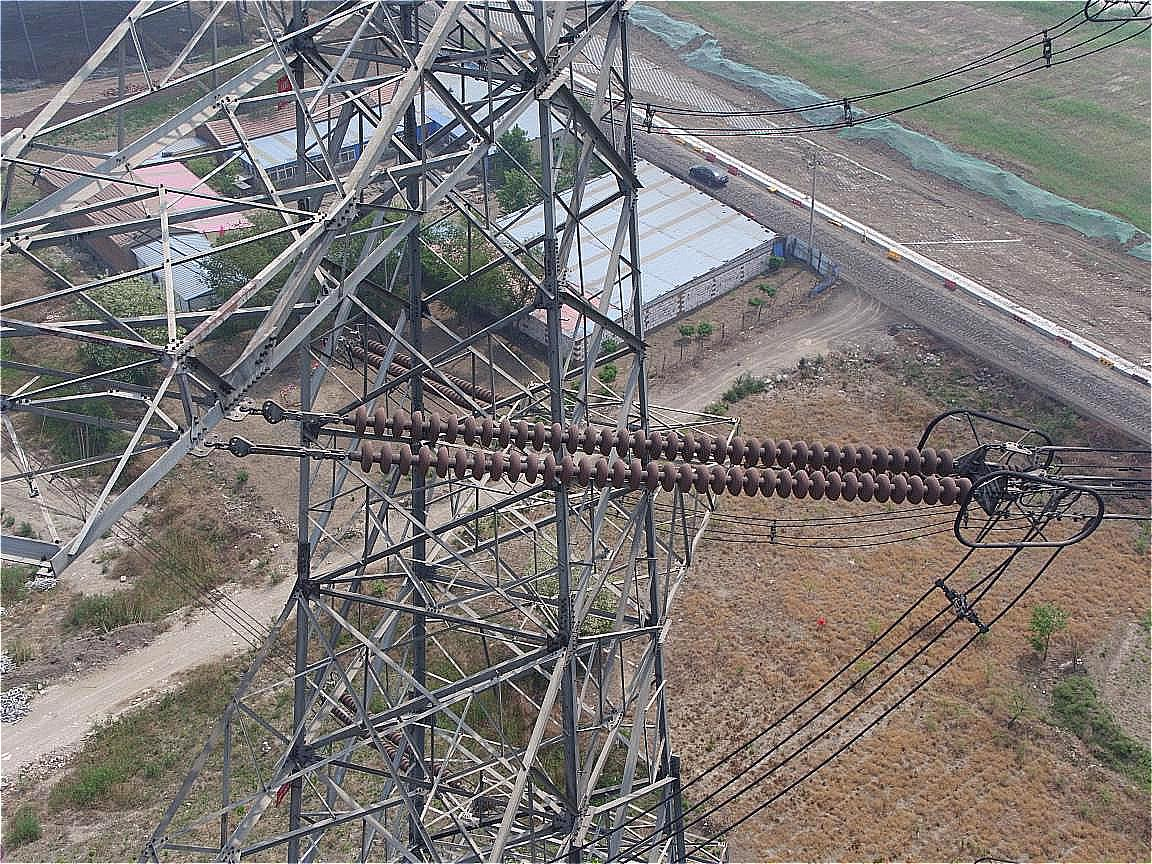insultor1: (305, 394, 997, 529)
